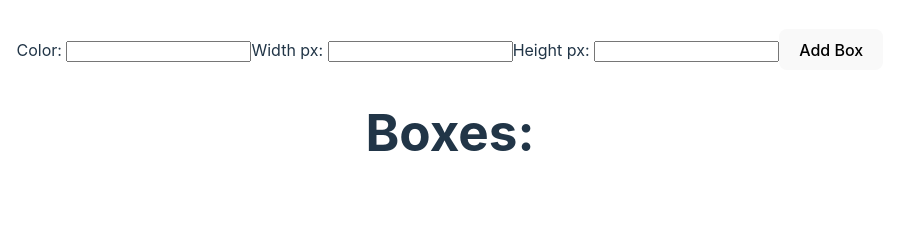
Test: can get new boxes
Type "blue" into the field labelled "Color:" at (159, 51), box [66,40,252,62]
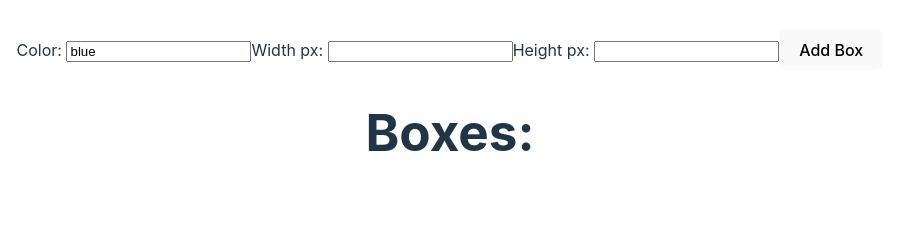
Type "50" into the field labelled "Width px:" at (420, 51), box [328,40,513,62]
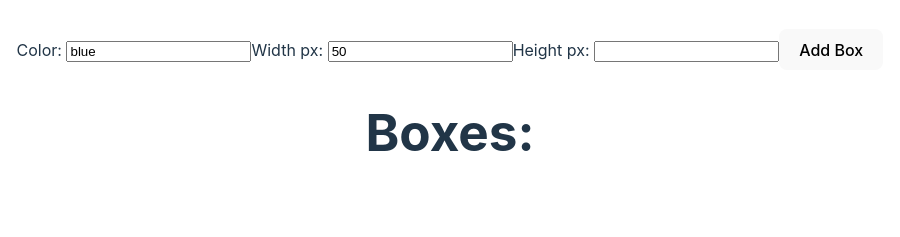
Type "50" into the field labelled "Height px:" at (686, 51), box [594,40,779,62]
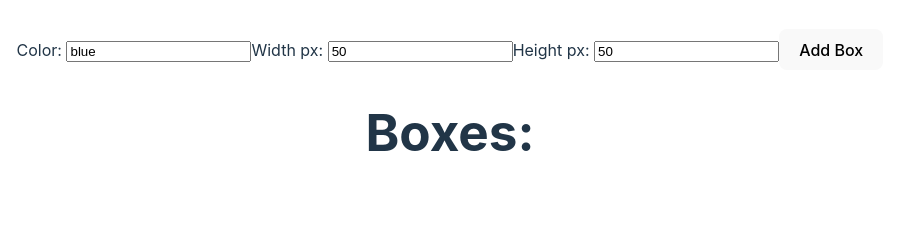
Click the button "Add Box" at (831, 50), box [779,29,883,70]
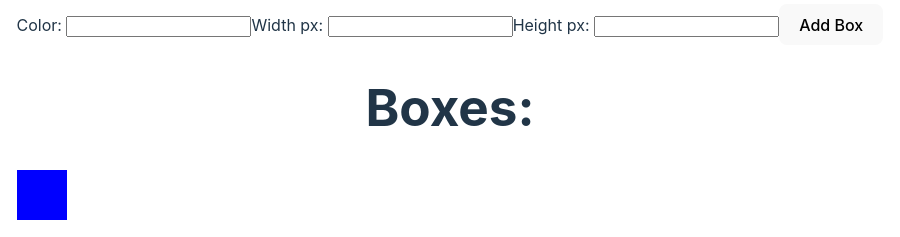
expect the element with class "aBox" is shown: met, box [17,170,67,220]
